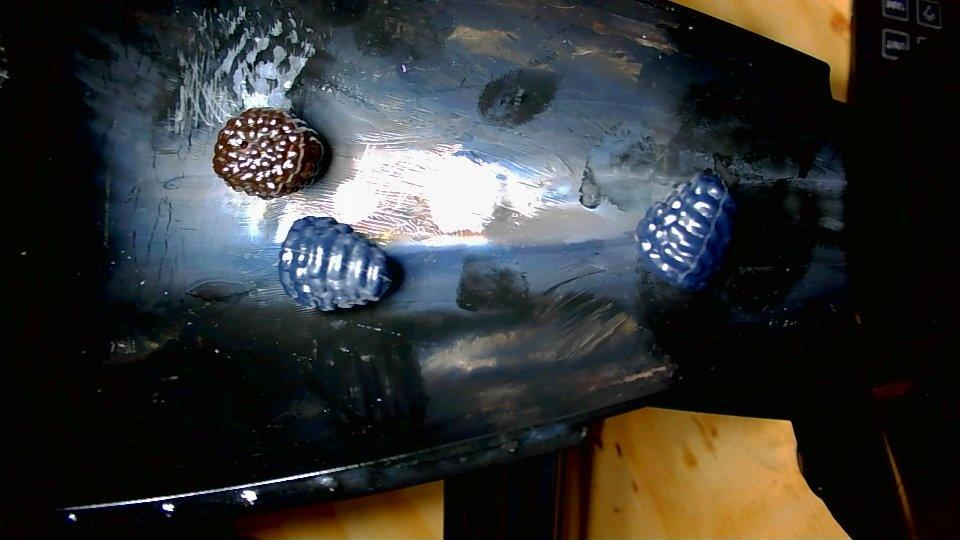berry: (635, 173, 735, 290), (278, 216, 392, 310), (214, 107, 326, 198)
